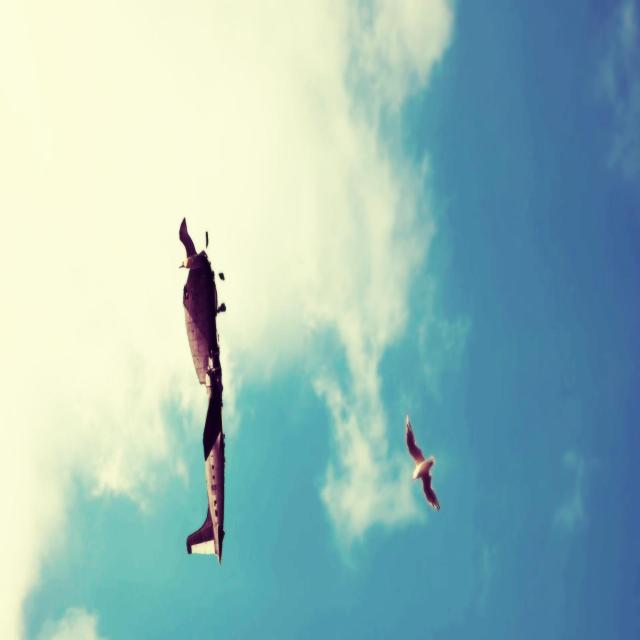airplane: (178, 216, 226, 564)
